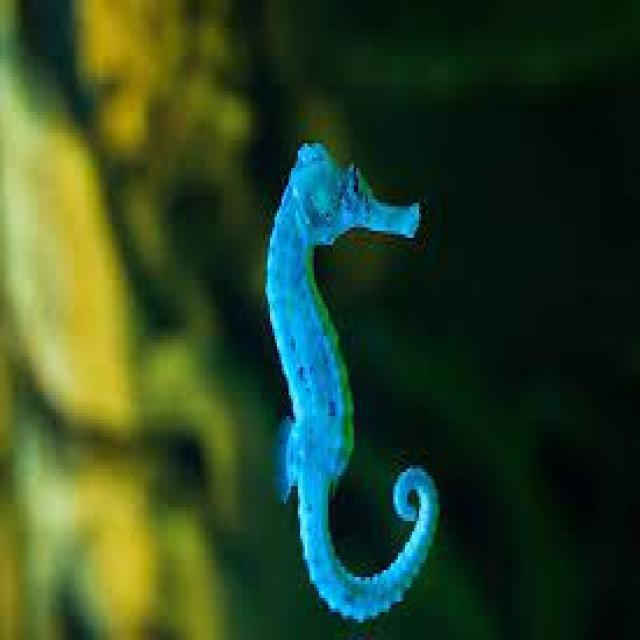SeaHorse: (265, 143, 442, 626)
